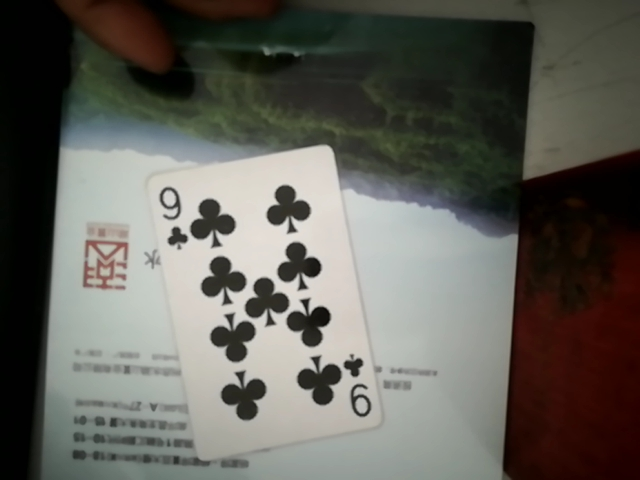mh 9: (151, 135, 374, 470)
